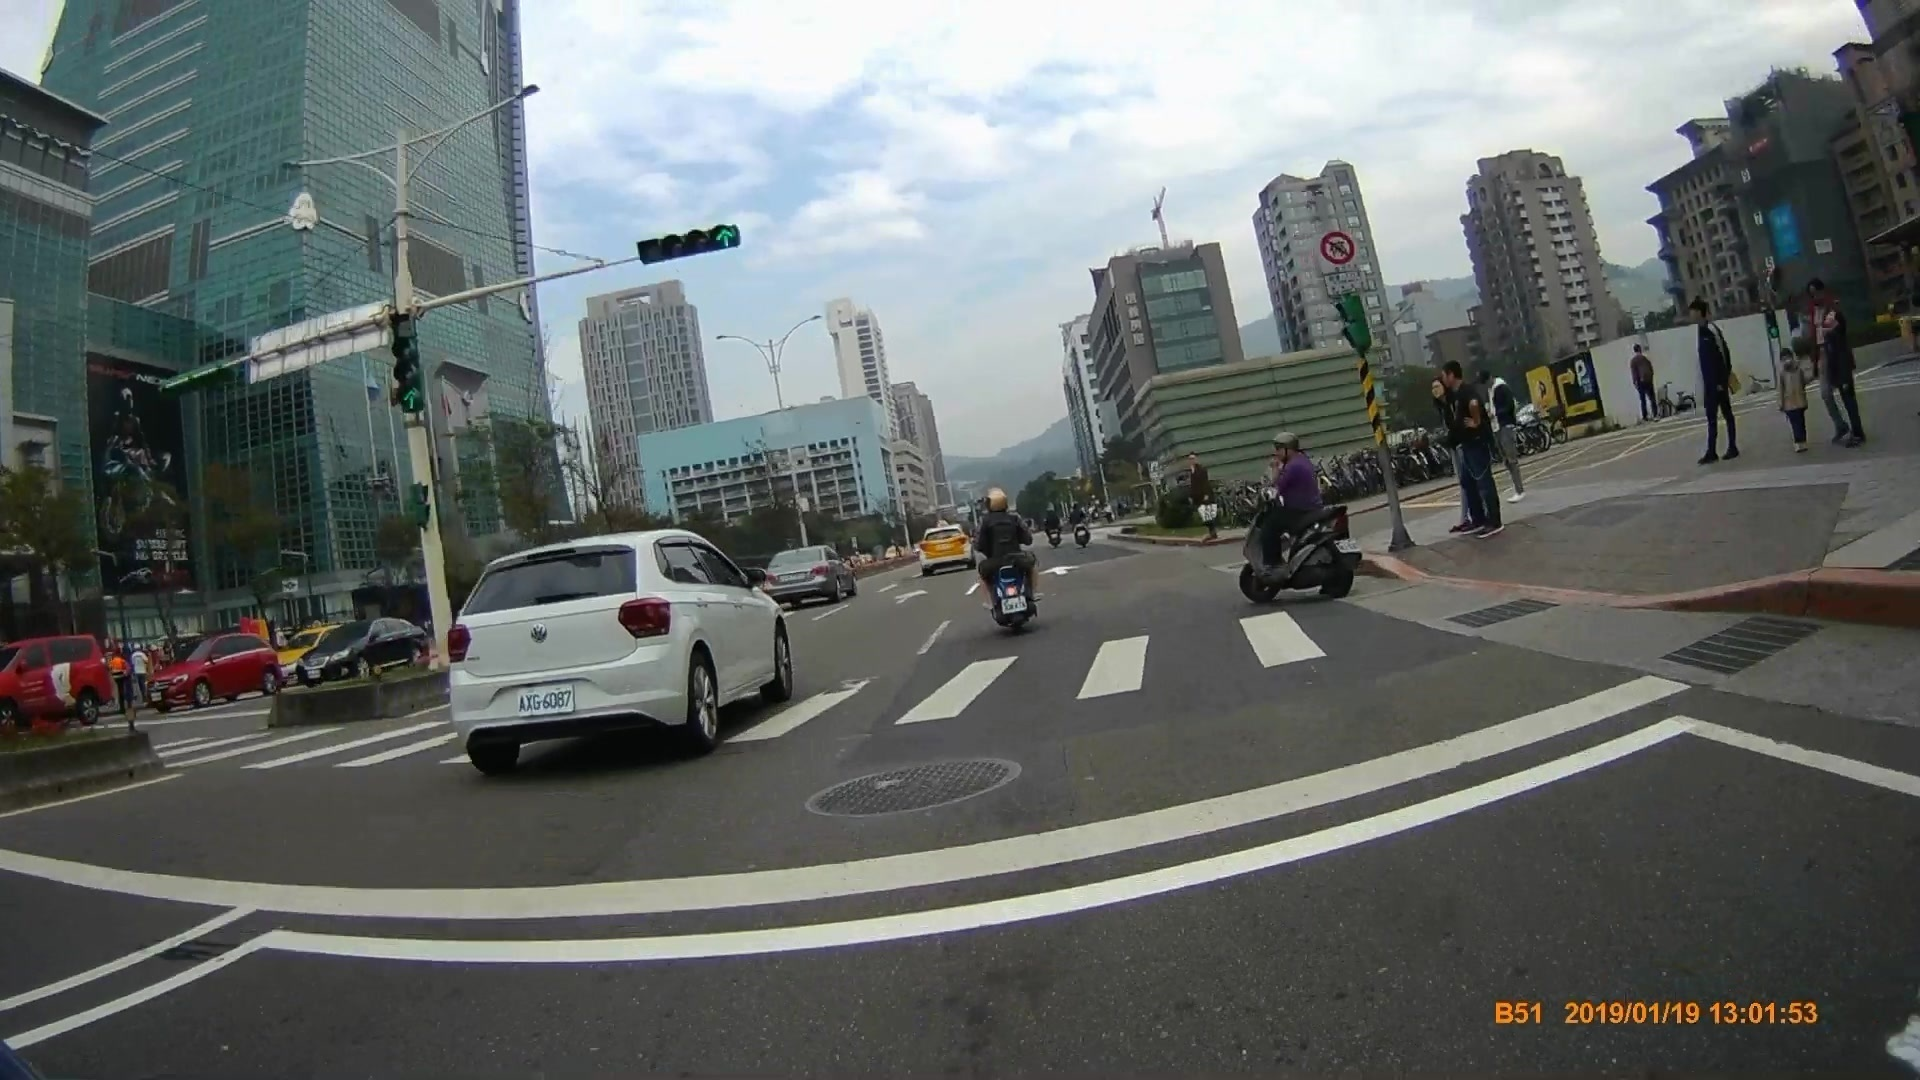License_plate: (507, 682, 577, 718), (999, 593, 1029, 617)
